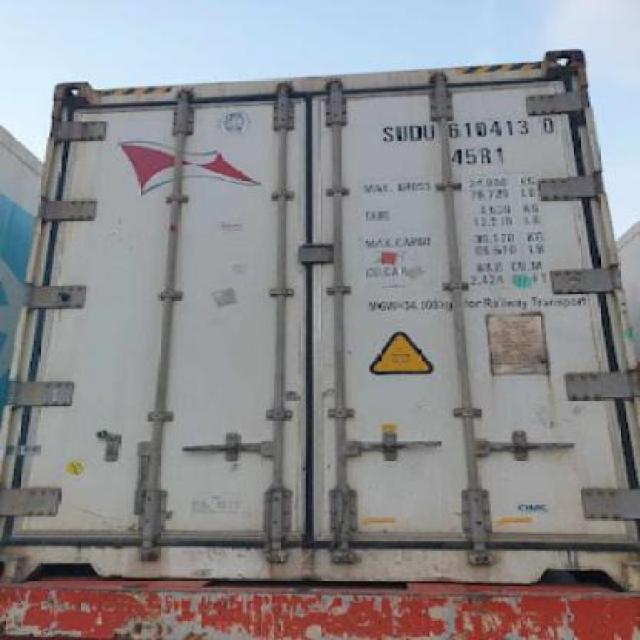ISO: (452, 144, 500, 166)
container_number: (384, 118, 556, 140)
